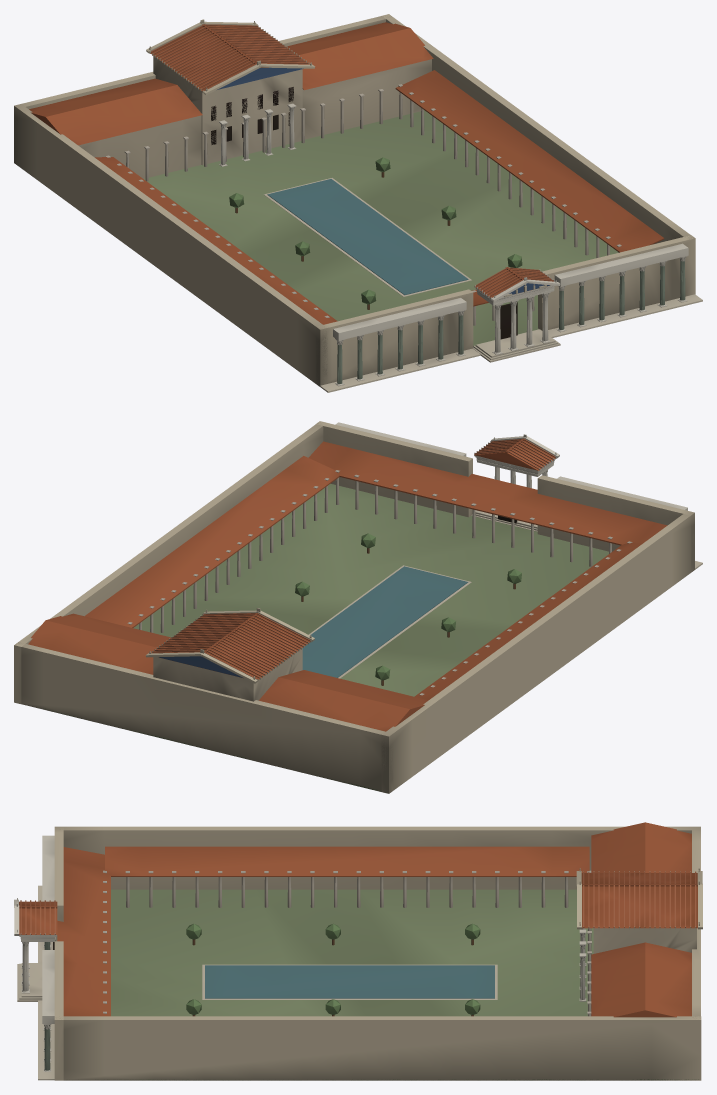
Rendered from hadrians-library.glb.
3 renders of one model, top to bottom at view 1: azimuth 30°, elevation 25°; view 2: azimuth 150°, elevation 25°; view 3: azimuth 270°, elevation 25°, orthographic. The views are drawn at different scales.
Visible parts, largest first — view 1: p0_court, p1_facade, p2_entablature; view 2: p0_court, p2_entablature, p1_facade; view 3: p0_court, p2_entablature, p1_facade.
Part boxes in pixels (bbox=[...]): p0_court: bbox=[14, 14, 702, 392]; p1_facade: bbox=[78, 56, 687, 386]; p2_entablature: bbox=[29, 19, 688, 340]; p0_court: bbox=[14, 421, 702, 793]; p2_entablature: bbox=[28, 422, 687, 731]; p1_facade: bbox=[127, 434, 632, 701]; p0_court: bbox=[38, 826, 701, 1080]; p2_entablature: bbox=[42, 822, 702, 1023]; p1_facade: bbox=[14, 870, 696, 1072].
Bounding box in the file's own units: 82.1 × 20.51 × 124.
